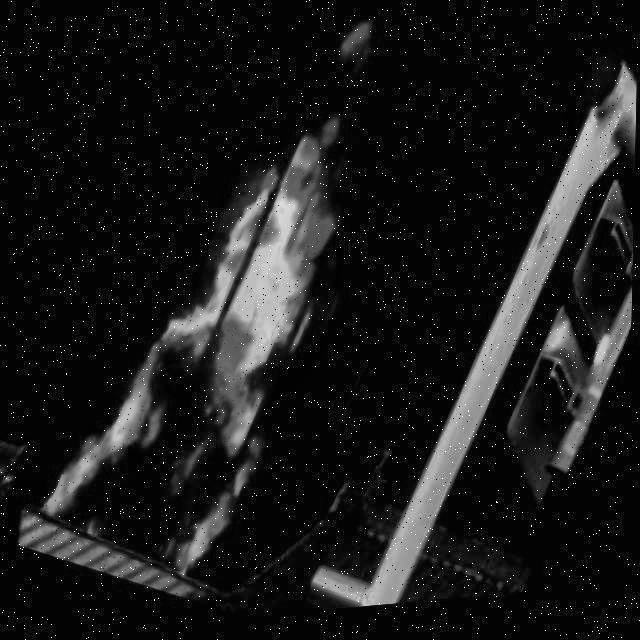Fire: (36, 82, 394, 603)
